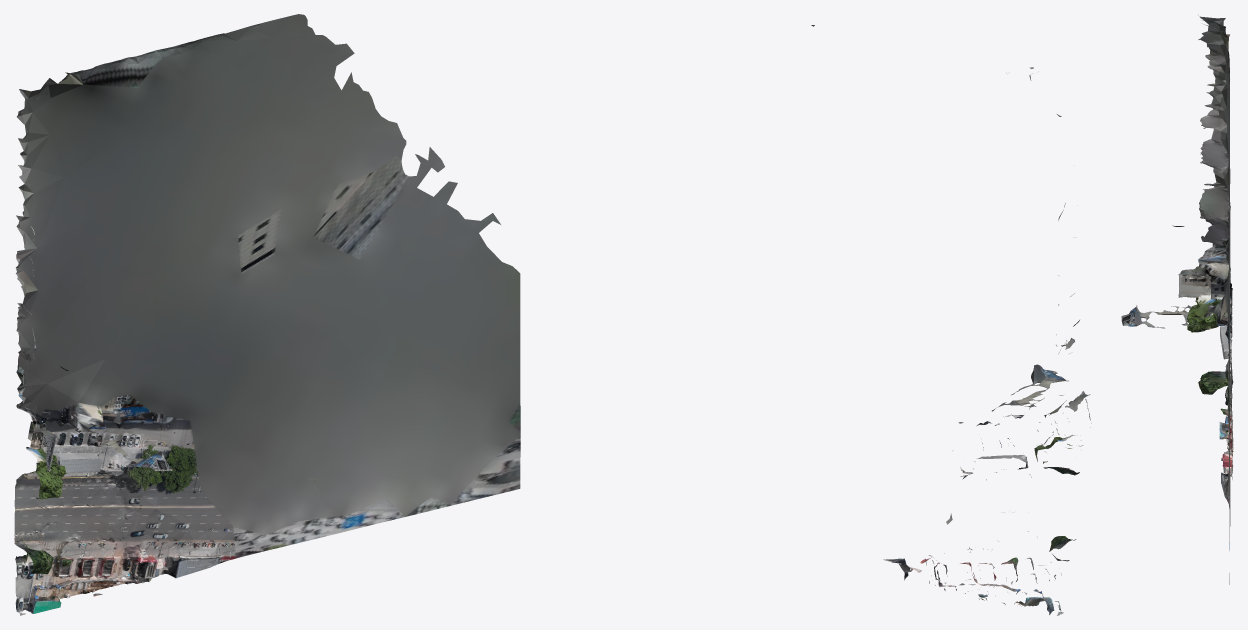
Rendered from Tile_+003_+003.glb.
3 renders of one model, left to right at view 1: azimuth 30°, elevation 25°; view 2: azimuth 150°, elevation 25°; view 3: azimuth 270°, elevation 25°, orthographic. The views are drawn at different scales.
Visible parts, largest first — view 1: Node; view 2: Node; view 3: Node.
Boxes of the visible parts, x1,y1,x2,y2 form: Node: (14,14,520,615); Node: (811,25,1091,615); Node: (1121,15,1233,584).
Bounding box in the file's own units: 200 × 200 × 49.71.
1 material, 1 textured.
